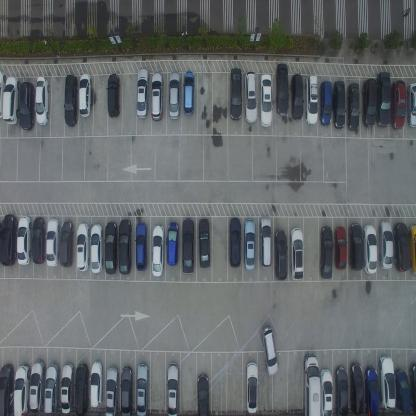car: (303, 353, 320, 415), (0, 212, 18, 268), (378, 354, 396, 409), (261, 324, 279, 376), (43, 361, 60, 416), (29, 358, 46, 413), (13, 362, 30, 416), (2, 75, 19, 125), (74, 362, 90, 415), (180, 218, 195, 274), (390, 78, 406, 130), (18, 80, 34, 132), (394, 222, 410, 273), (243, 70, 258, 124), (378, 220, 394, 270), (377, 70, 391, 127), (35, 74, 50, 127), (118, 218, 132, 274), (104, 220, 118, 276), (290, 227, 304, 283), (348, 222, 364, 271), (135, 364, 150, 416), (60, 361, 75, 413), (275, 61, 289, 116), (259, 73, 273, 128), (64, 73, 78, 128), (361, 79, 377, 127), (16, 215, 31, 266), (150, 223, 164, 277), (274, 228, 288, 282), (350, 362, 364, 416), (136, 66, 150, 120), (31, 215, 46, 265), (166, 362, 180, 415), (59, 219, 74, 268), (364, 366, 379, 415), (104, 366, 119, 415), (228, 216, 242, 268), (318, 367, 333, 415), (320, 225, 333, 280), (0, 361, 13, 416), (258, 216, 272, 267), (134, 221, 148, 272), (363, 224, 377, 275), (394, 368, 410, 412), (334, 365, 348, 415), (346, 82, 360, 132), (150, 71, 164, 121), (245, 362, 258, 415), (89, 359, 103, 408), (198, 218, 211, 270), (243, 218, 256, 270), (76, 220, 89, 272), (305, 74, 318, 126), (46, 219, 60, 267), (332, 80, 346, 128), (290, 73, 304, 121), (78, 71, 92, 119), (167, 70, 180, 121), (120, 365, 133, 415), (106, 72, 120, 118), (90, 222, 102, 275), (230, 67, 242, 120), (319, 80, 332, 127), (334, 225, 347, 271), (196, 373, 210, 415), (182, 69, 194, 117), (167, 221, 179, 267), (406, 81, 416, 129), (408, 224, 416, 274), (408, 363, 416, 412), (0, 70, 6, 118)
